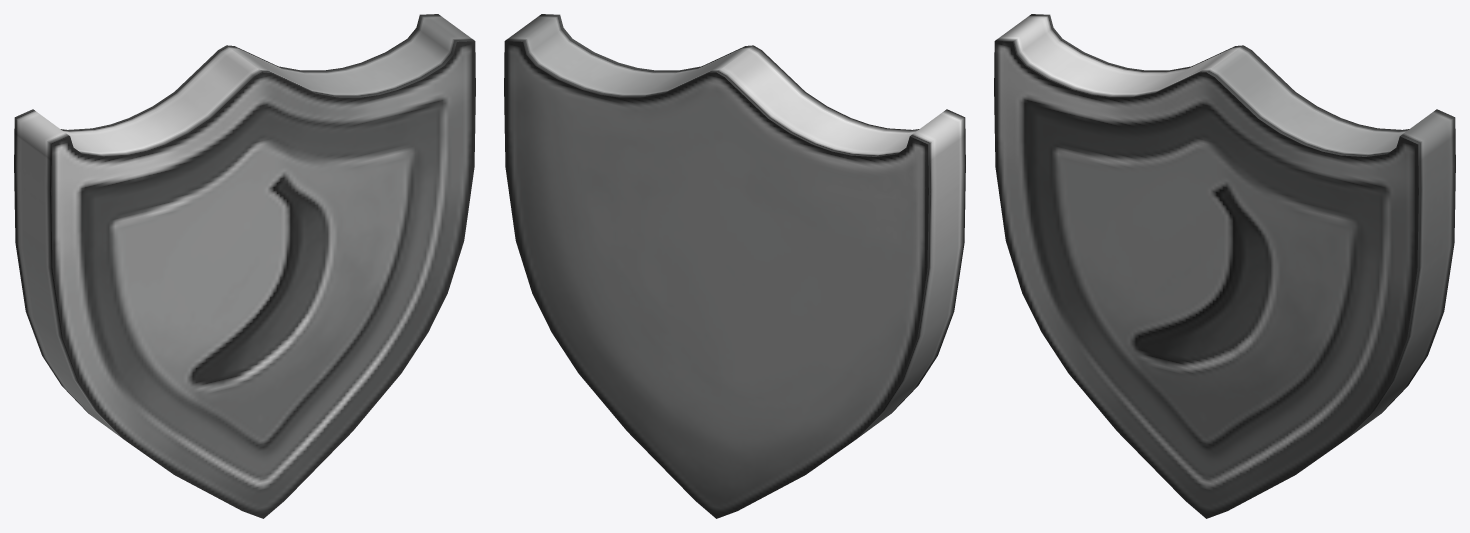
The model's file is Banana_Shield.fbx.
3 views of the same model, side by side, from view 1: azimuth 30°, elevation 25°; view 2: azimuth 150°, elevation 25°; view 3: azimuth 330°, elevation 25° (orthographic).
Parts seen in each view (by area): view 1: Mesh; view 2: Mesh; view 3: Mesh.
Part boxes in pixels (<box>): Mesh: <box>14,14,475,518</box>; Mesh: <box>504,14,965,518</box>; Mesh: <box>994,14,1455,518</box>.
Size of the model in its own units: 101 by 101 by 15.24.
